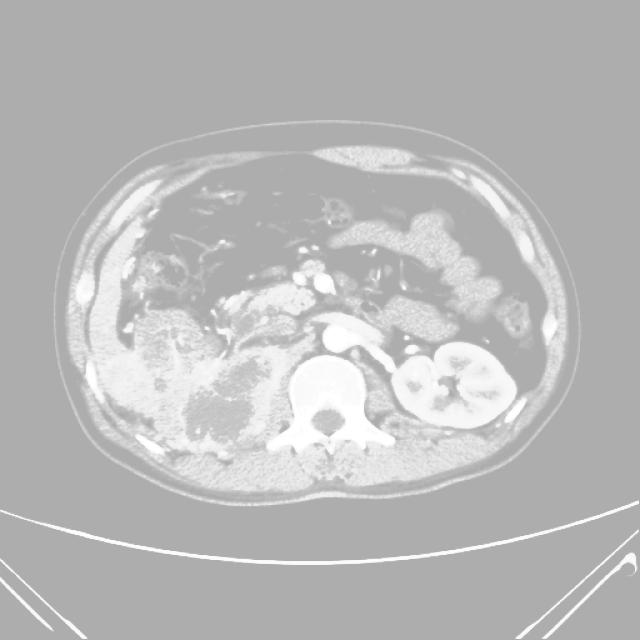TUMOR: (113, 177, 575, 398)
